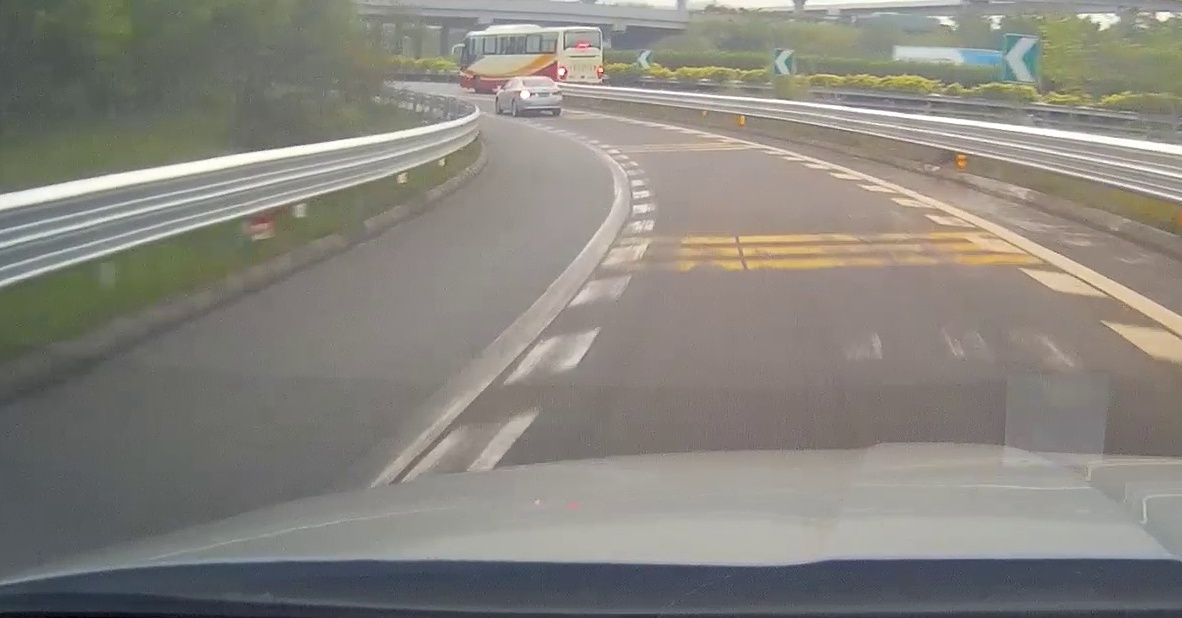L_light: (518, 91, 536, 96)
R_light: (552, 89, 562, 95)
T_light: (533, 77, 542, 79)
day-left: (515, 76, 563, 117)
